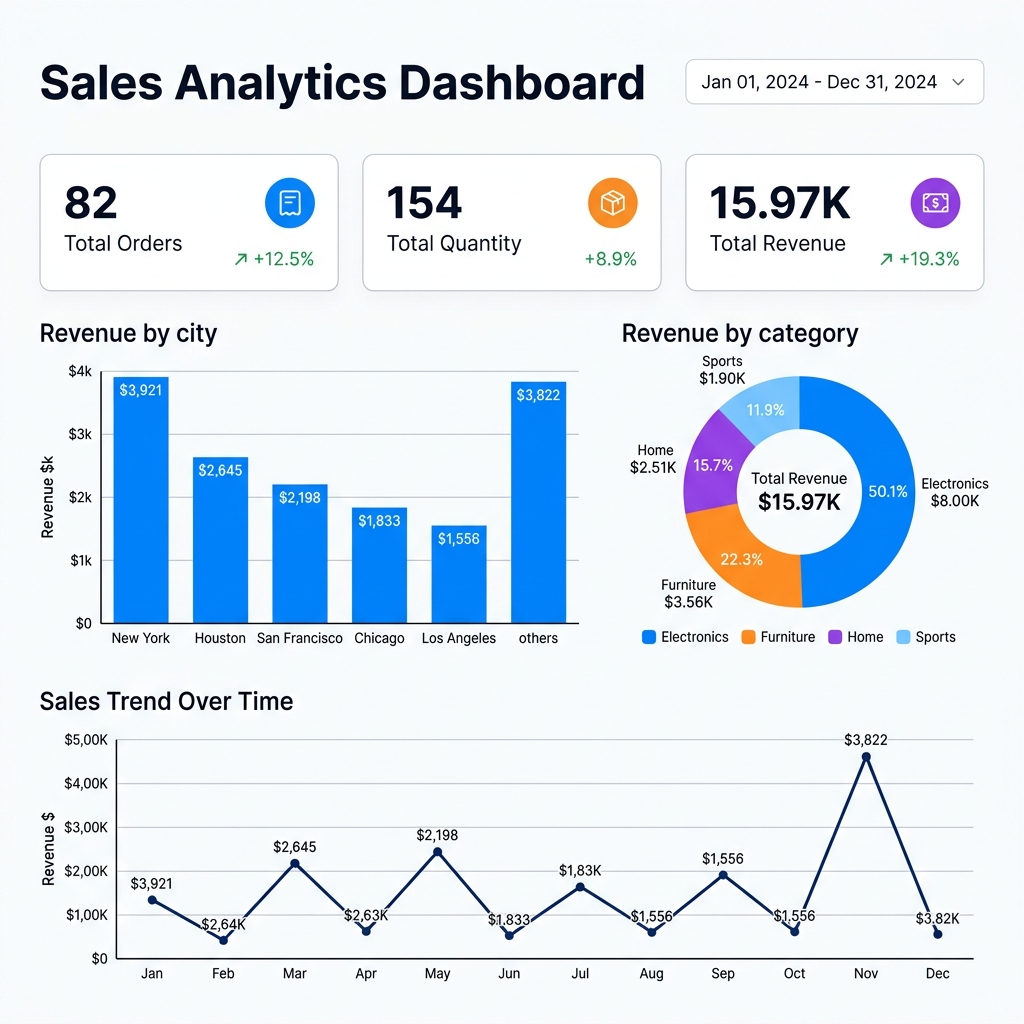

Layout of this report page (visuals, bound fields, positions):
{"tool":"powerbi","page":{"name":"Page 1","canvas":[1280,720],"ordinal":0},"visuals":[{"type":"cardVisual","fields":{"Data":["raw_data.Total Orders"]},"box":[61.7,52.1,179.8,178.4],"z":0},{"type":"cardVisual","fields":{"Data":["raw_data.Total Quantity"]},"box":[299.1,52.1,179.8,178.4],"z":1000},{"type":"cardVisual","fields":{"Data":["raw_data.Total Revenue"]},"box":[524.2,52.1,179.8,178.4],"z":2000},{"type":"clusteredColumnChart","title":"Revenue by city","fields":{"Category":["raw_data.city"],"Y":["raw_data.Total Revenue"]},"box":[0,230.5,775.3,237.4],"z":3000},{"type":"donutChart","title":"Revenue by category","fields":{"Y":["raw_data.Total Revenue"],"Category":["raw_data.category"]},"box":[775.3,52.1,505,415.8],"z":4000},{"type":"lineChart","title":"Sales Trend Over Time","fields":{"Y":["raw_data.Total Revenue"],"Category":["raw_data.transaction_date"]},"box":[0,467.9,1280.3,252.5],"z":5000},{"type":"textbox","box":[0,0,1280.3,52.1],"z":6000}]}

Visuals, with their boxes on the page's 1280x720 design canvas (x1, y1, x2, y2). These are canvas units, not pixel positions in the 1024x1024 screenshot, which may show the page scaled, cropped or inside an application window:
cardVisual - raw_data.Total Orders: x1=62, y1=52, x2=242, y2=230
cardVisual - raw_data.Total Quantity: x1=299, y1=52, x2=479, y2=230
cardVisual - raw_data.Total Revenue: x1=524, y1=52, x2=704, y2=230
"Revenue by city" clusteredColumnChart: x1=0, y1=230, x2=775, y2=468
"Revenue by category" donutChart: x1=775, y1=52, x2=1280, y2=468
"Sales Trend Over Time" lineChart: x1=0, y1=468, x2=1280, y2=720
textbox: x1=0, y1=0, x2=1280, y2=52
